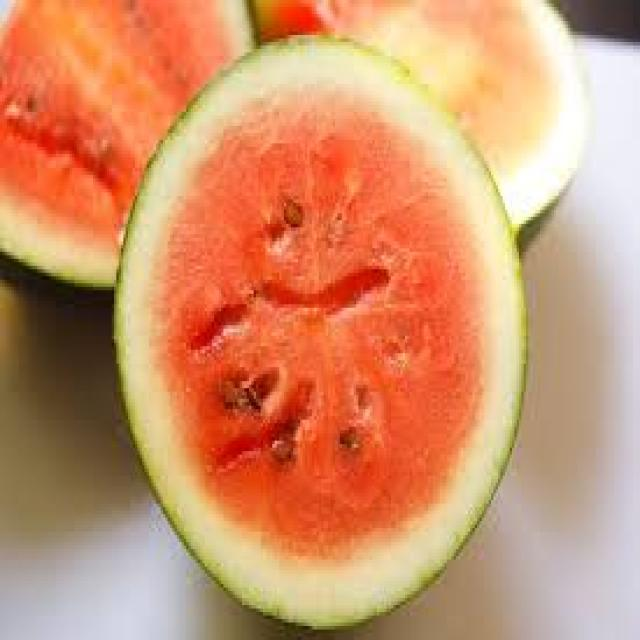watermelon: (110, 28, 530, 629), (249, 0, 591, 248), (0, 0, 256, 290)
